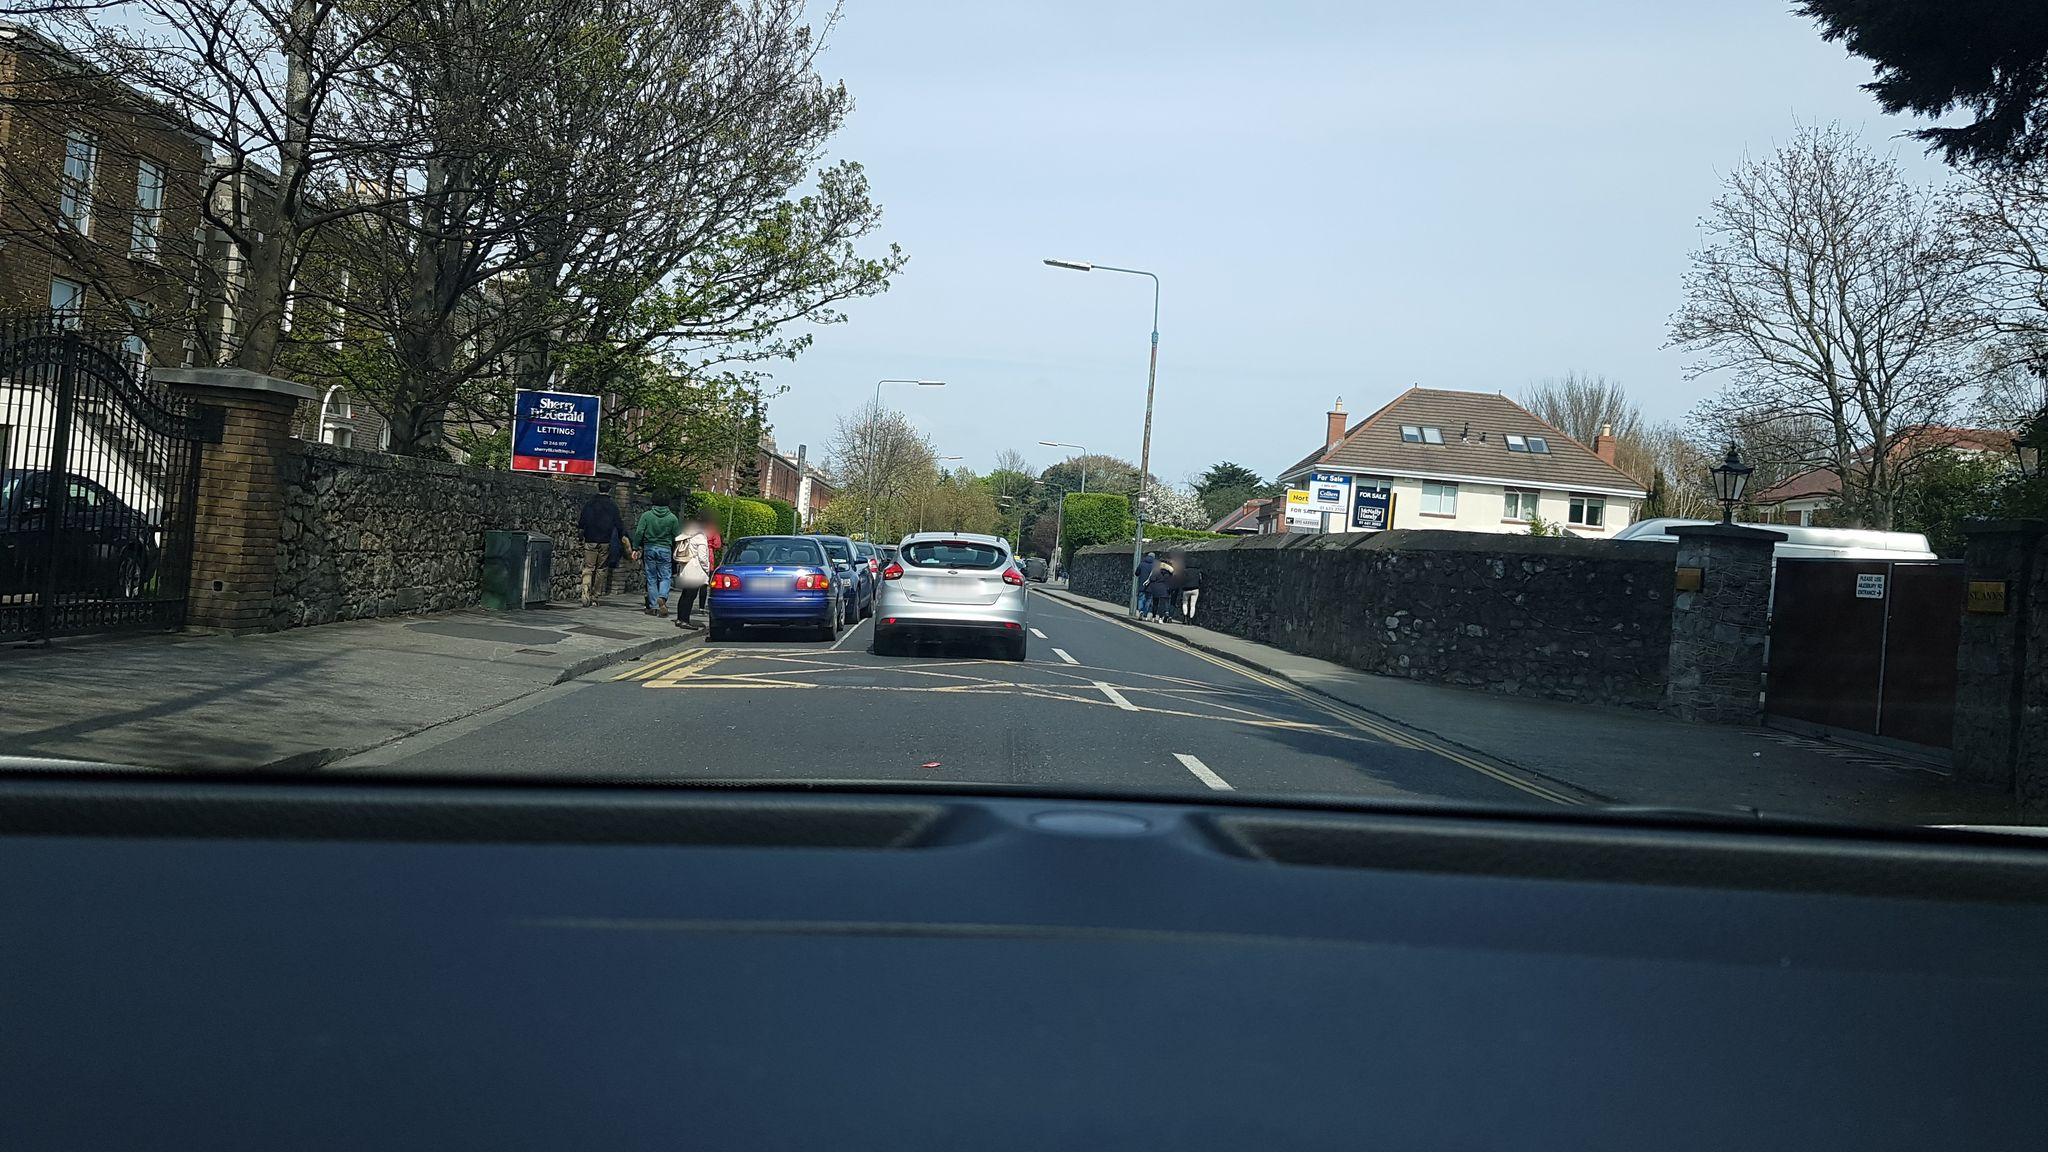property sign: (494, 364, 609, 488), (1348, 485, 1400, 542), (1307, 456, 1359, 512), (1273, 488, 1319, 537)
